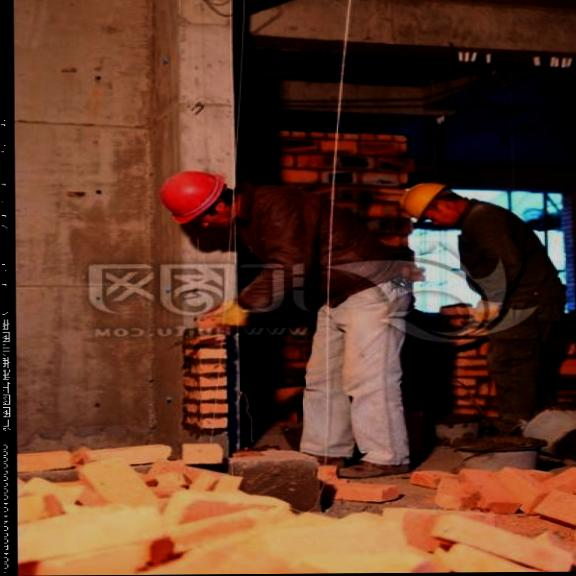no_safety_vest: (240, 181, 399, 306), (441, 205, 563, 331)
